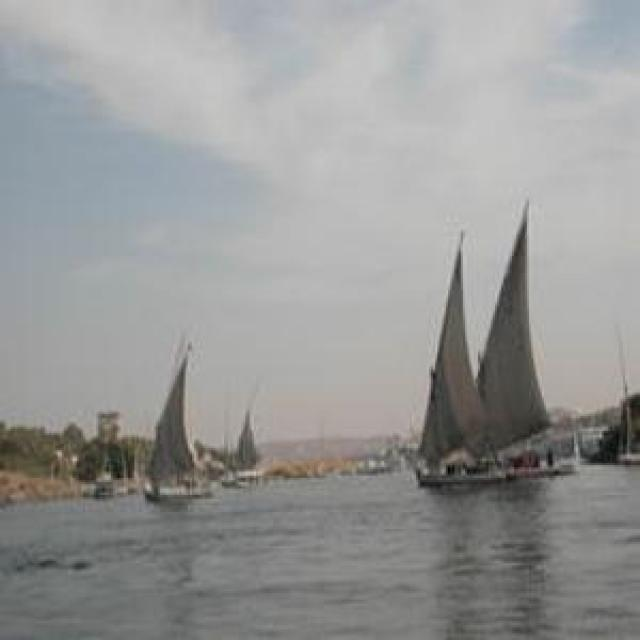sailboat: (388, 223, 509, 484), (468, 200, 577, 474), (136, 343, 208, 506), (236, 378, 274, 488)
